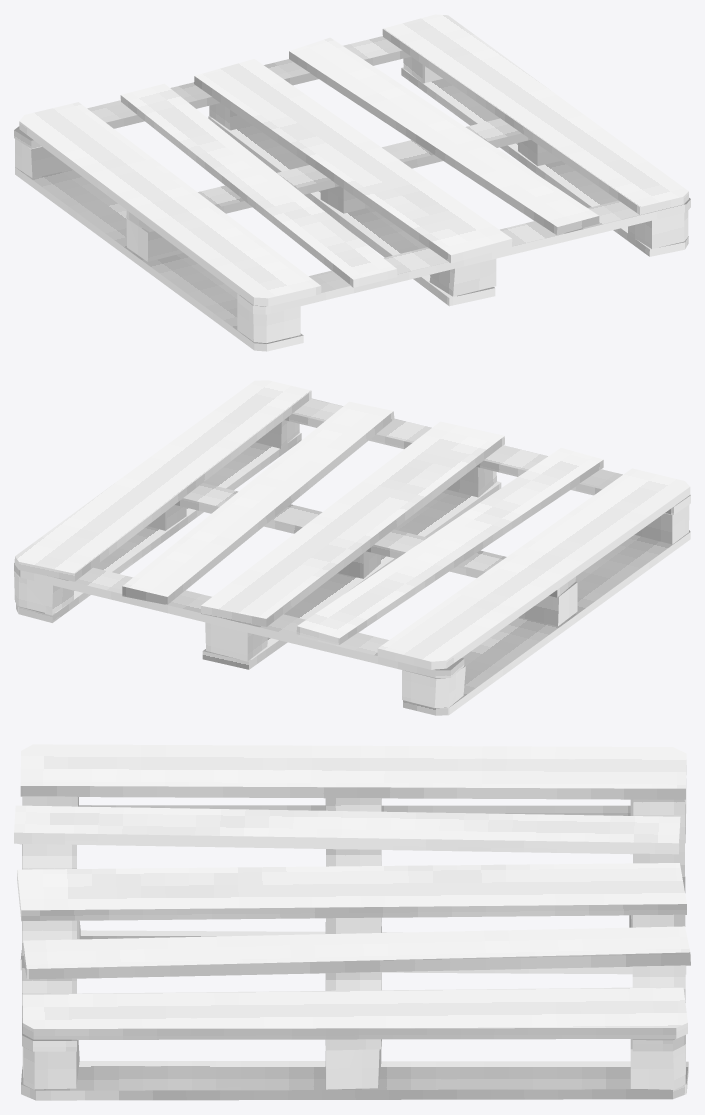
Rendered from WoodenLengthwisePalletEnglish.glb.
3 renders of one model, top to bottom at view 1: azimuth 30°, elevation 25°; view 2: azimuth 150°, elevation 25°; view 3: azimuth 270°, elevation 25°, orthographic. The views are drawn at different scales.
Visible parts, largest first — view 1: WoodenLengthwisePalletEnglish; view 2: WoodenLengthwisePalletEnglish; view 3: WoodenLengthwisePalletEnglish.
Boxes of the visible parts, box(x1,y1,x2,y2) form: WoodenLengthwisePalletEnglish: box(14, 14, 690, 351); WoodenLengthwisePalletEnglish: box(14, 380, 690, 715); WoodenLengthwisePalletEnglish: box(14, 744, 690, 1100).
Size of the model in its own units: 1.2 by 0.1441 by 1.2.
1 material, 1 textured.
